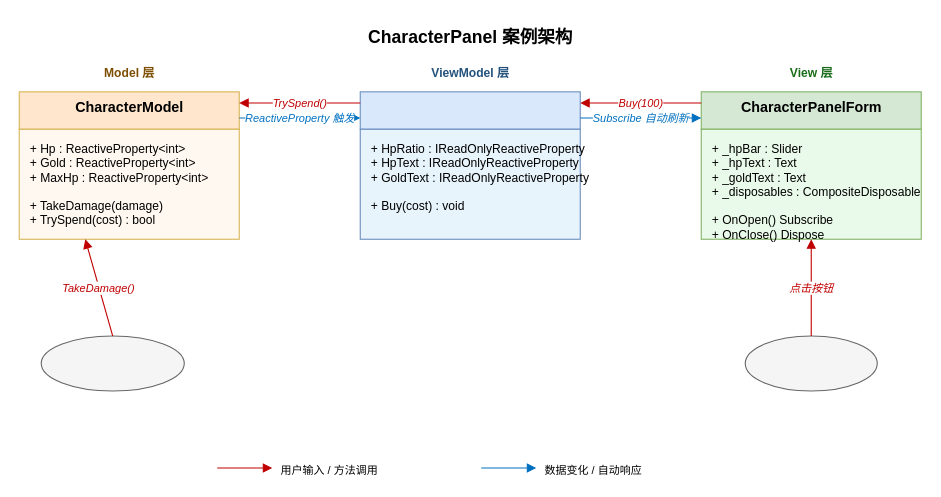
This 941x497 diagram has some shape labels left out. The centre of each missing label's shape, as x and y in pixels:
CharacterViewModel: point (469, 110)
战斗系统: point (112, 363)
用户: point (810, 363)
